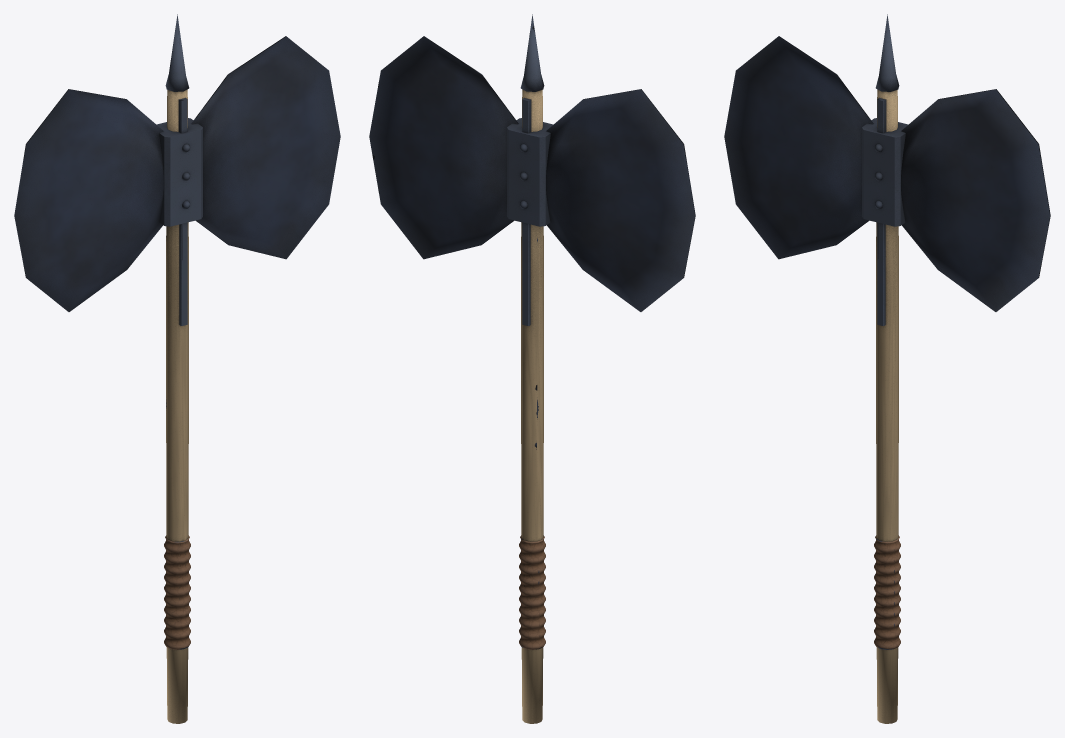
Rendered from cold-iron-greataxe.glb.
The picture shows the model from 3 angles, left to right: view 1: azimuth 30°, elevation 25°; view 2: azimuth 150°, elevation 25°; view 3: azimuth 330°, elevation 25°; orthographic projection.
Visible parts, largest first — view 1: cold-iron-greataxe; view 2: cold-iron-greataxe; view 3: cold-iron-greataxe.
Boxes of the visible parts, x1=… form: cold-iron-greataxe: x1=14, y1=14, x2=340, y2=723; cold-iron-greataxe: x1=369, y1=14, x2=695, y2=723; cold-iron-greataxe: x1=724, y1=14, x2=1050, y2=723.
Size of the model in its own units: 1.68 by 3.48 by 0.188.
Materials: 1 (1 with a texture image).
